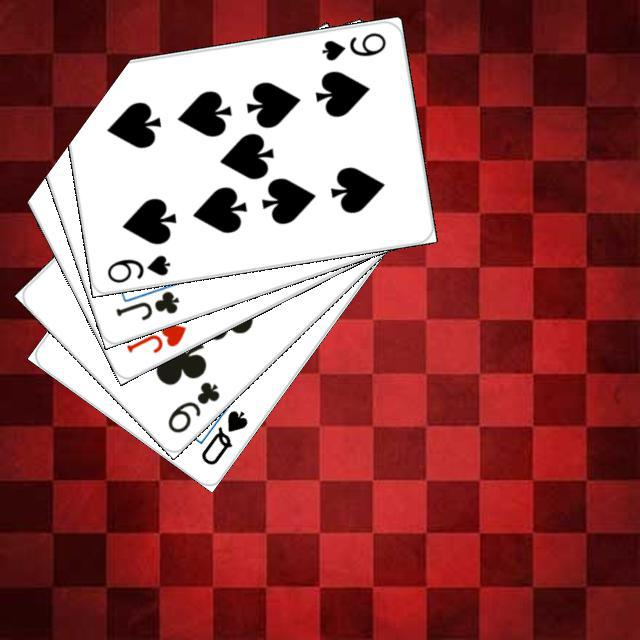9c: (162, 376, 222, 435)
9s: (317, 27, 388, 63), (102, 250, 172, 285)
Jc: (110, 285, 181, 323)
Jh: (121, 318, 188, 355)
Qs: (196, 405, 250, 467)
